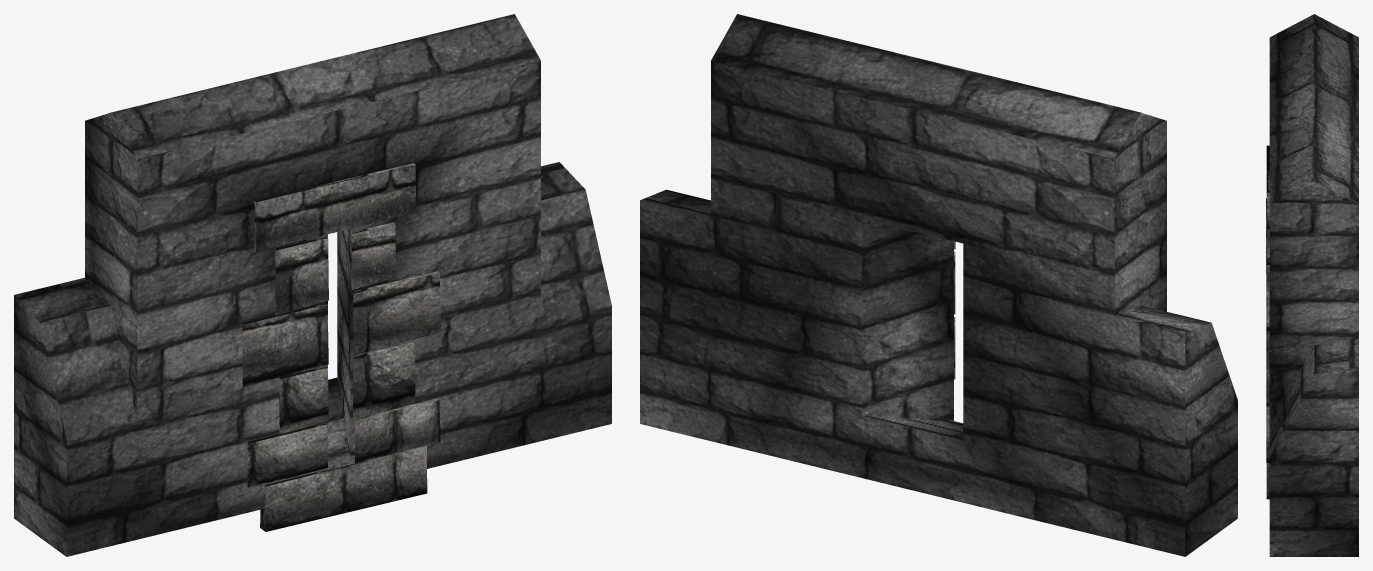
File: stone arrowslit2.glb
The picture shows the model from 3 angles, left to right: view 1: azimuth 30°, elevation 25°; view 2: azimuth 150°, elevation 25°; view 3: azimuth 270°, elevation 25°; orthographic projection. The views are drawn at different scales.
Parts seen in each view (by area): view 1: Crenolation, Arrow Loop.003; view 2: Crenolation, Arrow Loop.003; view 3: Crenolation, Arrow Loop.003.
Boxes of the visible parts, x1,y1,x2,y2 form: Crenolation, Arrow Loop.003: [14, 14, 611, 556]; Crenolation, Arrow Loop.003: [640, 14, 1237, 556]; Crenolation, Arrow Loop.003: [1266, 14, 1358, 556].
Size of the model in its own units: 2.74 by 2.07 by 0.476.
Materials: 2 (2 with a texture image).
